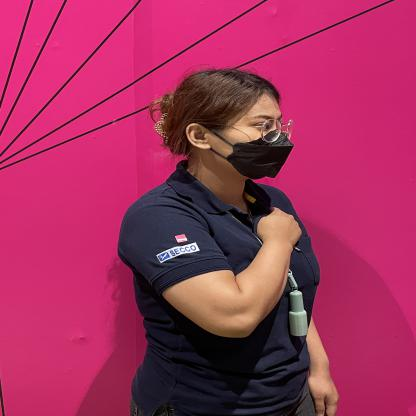Sadness: (170, 207, 337, 348)
